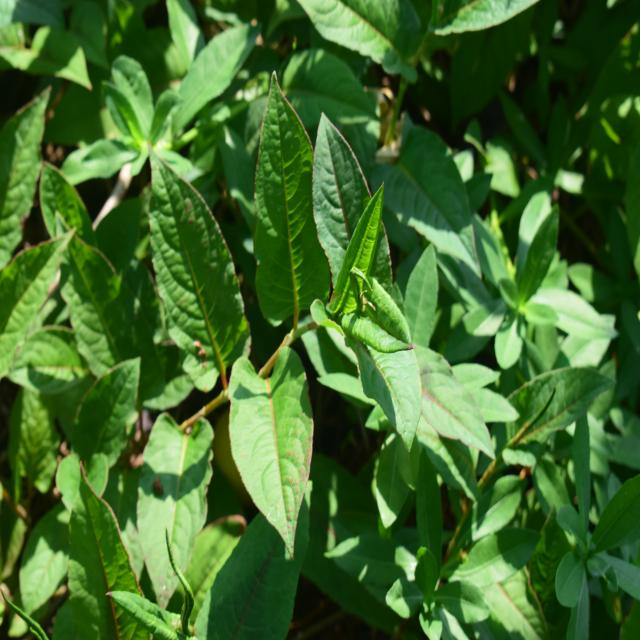Chinese_knotweed: (172, 82, 400, 531)
